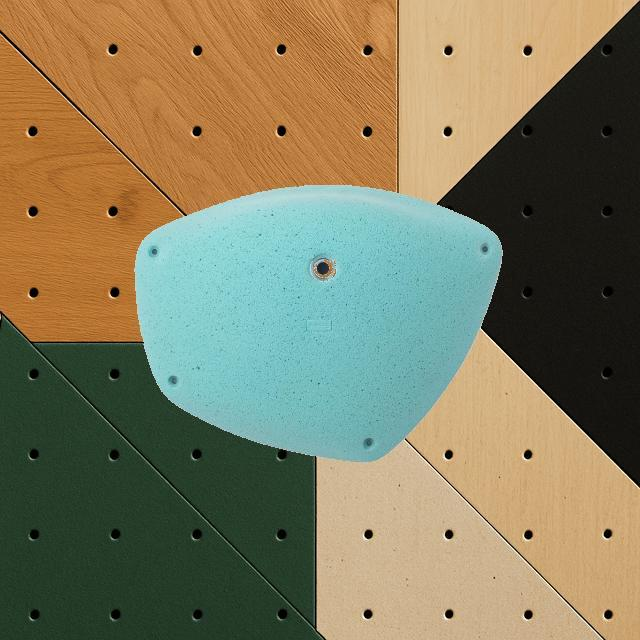Sloper: (132, 183, 504, 463)
